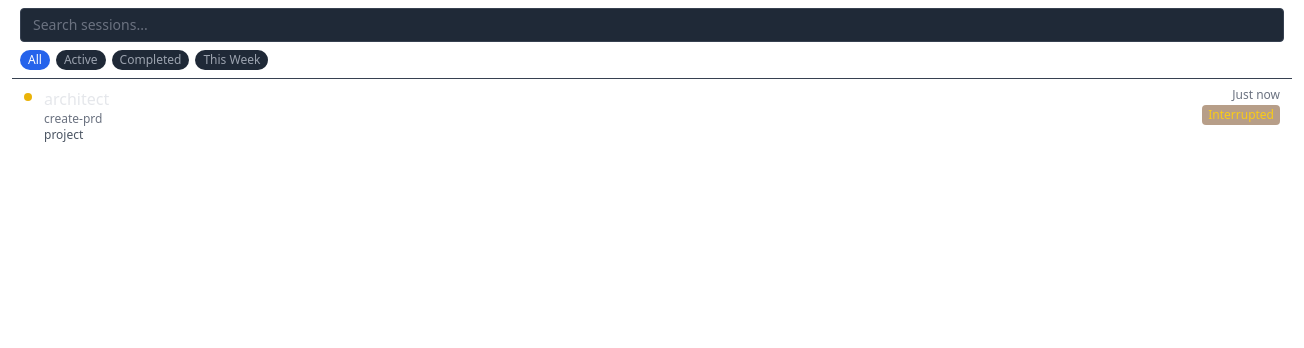
Test case: SessionList › filter chips › Show All button resets filter
This screenshot has width=1304, height=348.
Click the button "Completed": (150, 60) top-left (112, 50), bottom-right (189, 70)
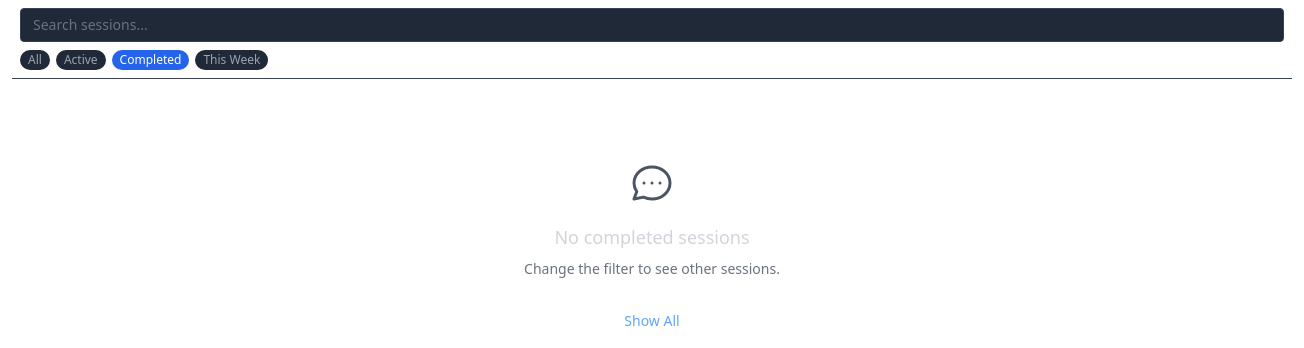
Click the button "Show All": (652, 321) top-left (624, 311), bottom-right (680, 331)
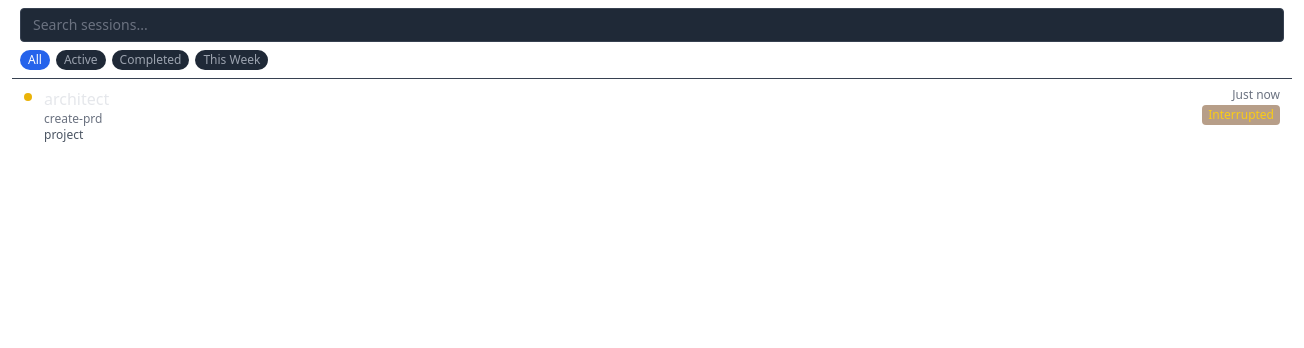
expect the text "architect" is shown: met, box top-left (44, 88), bottom-right (109, 110)
